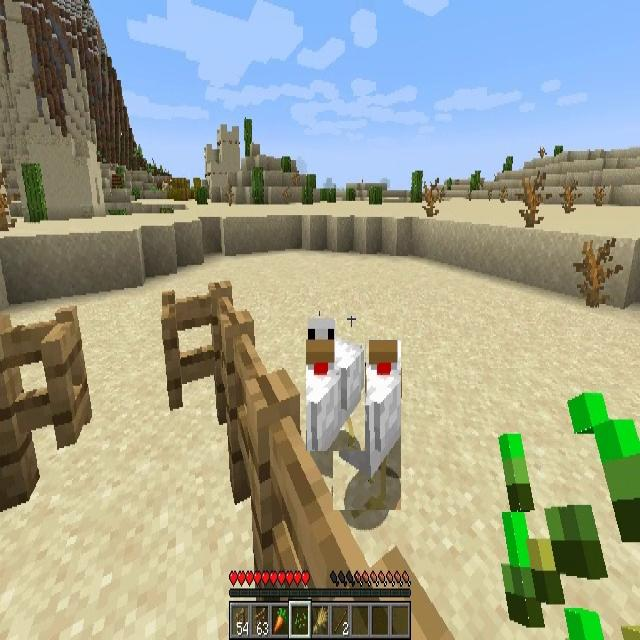duck: (333, 340, 401, 510), (306, 316, 365, 451)
